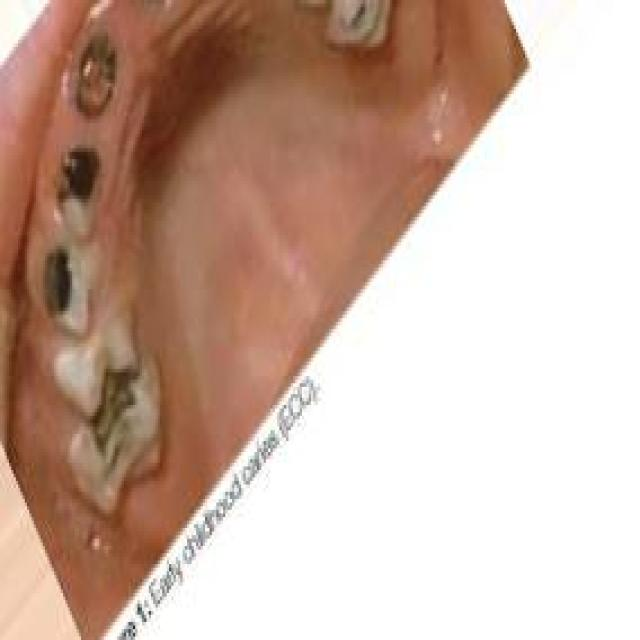caries: (81, 361, 147, 473), (62, 32, 124, 133), (46, 135, 103, 233), (28, 238, 75, 328)
